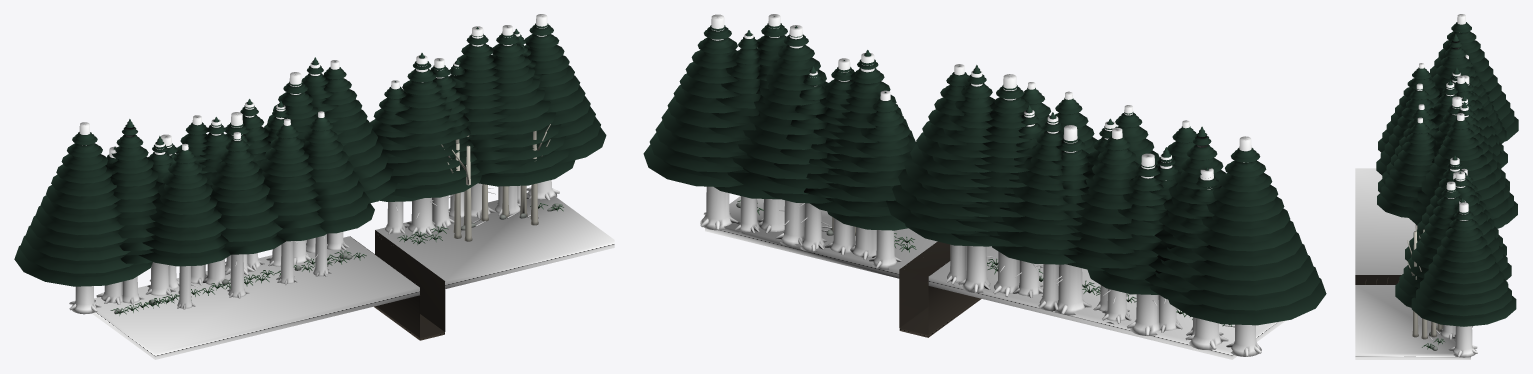
The model's file is forest.glb.
The picture shows the model from 3 angles, left to right: view 1: azimuth 30°, elevation 25°; view 2: azimuth 150°, elevation 25°; view 3: azimuth 270°, elevation 25°; orthographic projection. The views are drawn at different scales.
Parts seen in each view (by area): view 1: Ground • west, Ground • east, Ditch • wall e, Fir tier.036, Fir tier.037, Fir tier.038, Fir tier.039, Fir tier.215, Fir tier.040, Fir tier, Fir tier.041, Fir tier.001 (+80 smaller); view 2: Ground • west, Ground • east, Fir tier.036, Ditch • wall e, Fir tier.037, Fir tier.038, Fir tier.039, Fir tier.040, Fir tier.041, Fir trunk.011, Ditch • wall w, Fir tier.042 (+90 smaller); view 3: Ground • east, Ground • west, Fir tier.237, Fir tier.238, Fir tier.239, Fir tier.240, Fir tier.241, Fir tier.242, Fir trunk.024, Fir tier.243, Fir tier.244, Fir tier.162 (+66 smaller).
Boxes of the visible parts, box(x1,y1,x2,y2) form: Ground • west: box(92, 236, 419, 359); Ground • east: box(375, 192, 614, 288); Ditch • wall e: box(375, 230, 445, 331); Fir tier.036: box(14, 245, 152, 286); Fir tier.037: box(19, 235, 133, 273); Fir tier.038: box(25, 225, 130, 260); Fir tier.039: box(30, 216, 128, 247); Fir tier.215: box(478, 160, 575, 186); Fir tier.040: box(35, 205, 125, 235); Fir tier: box(138, 245, 230, 266); Fir tier.041: box(40, 195, 122, 222); Fir tier.001: box(142, 232, 228, 253); Ground • west: box(928, 246, 1285, 359); Ground • east: box(705, 196, 937, 278); Fir tier.036: box(1168, 278, 1326, 325); Ditch • wall e: box(899, 241, 950, 327); Fir tier.037: box(1176, 266, 1320, 310); Fir tier.038: box(1181, 255, 1314, 295); Fir tier.039: box(1186, 244, 1308, 280); Fir tier.040: box(1191, 232, 1302, 265); Fir tier.041: box(1196, 220, 1296, 251); Fir trunk.011: box(1054, 125, 1085, 315); Ditch • wall w: box(928, 261, 978, 334); Fir tier.042: box(1201, 208, 1290, 236); Ground • east: box(1355, 285, 1470, 359); Ground • west: box(1355, 168, 1415, 274); Fir tier.237: box(1411, 296, 1516, 326); Fir tier.238: box(1416, 287, 1511, 316); Fir tier.239: box(1420, 279, 1507, 305); Fir tier.240: box(1424, 270, 1503, 294); Fir tier.241: box(1428, 262, 1499, 284); Fir tier.242: box(1433, 254, 1494, 273); Fir trunk.024: box(1453, 202, 1476, 357); Fir tier.243: box(1437, 245, 1490, 262); Fir tier.244: box(1441, 236, 1486, 252); Fir tier.162: box(1438, 145, 1482, 160).
Size of the model in its own units: 90.22 by 36.64 by 26.85.
